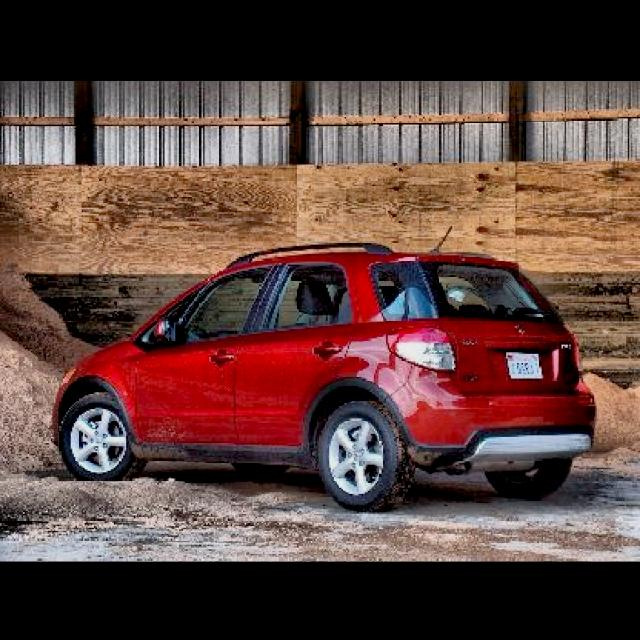red: (23, 220, 591, 500)
